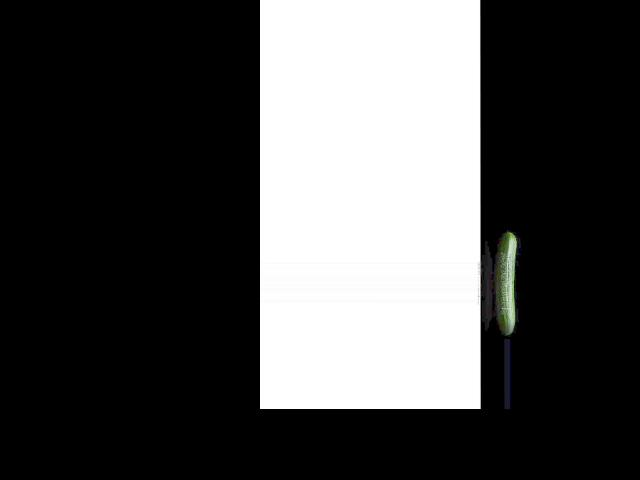cucumber: (500, 231, 515, 334)
